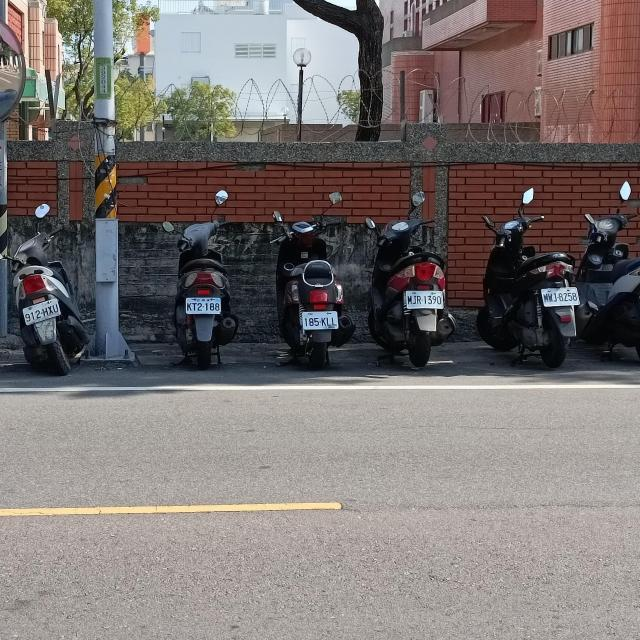W: (21, 299, 61, 324), (540, 286, 580, 307), (404, 290, 445, 310), (301, 311, 338, 330), (185, 297, 221, 314)
